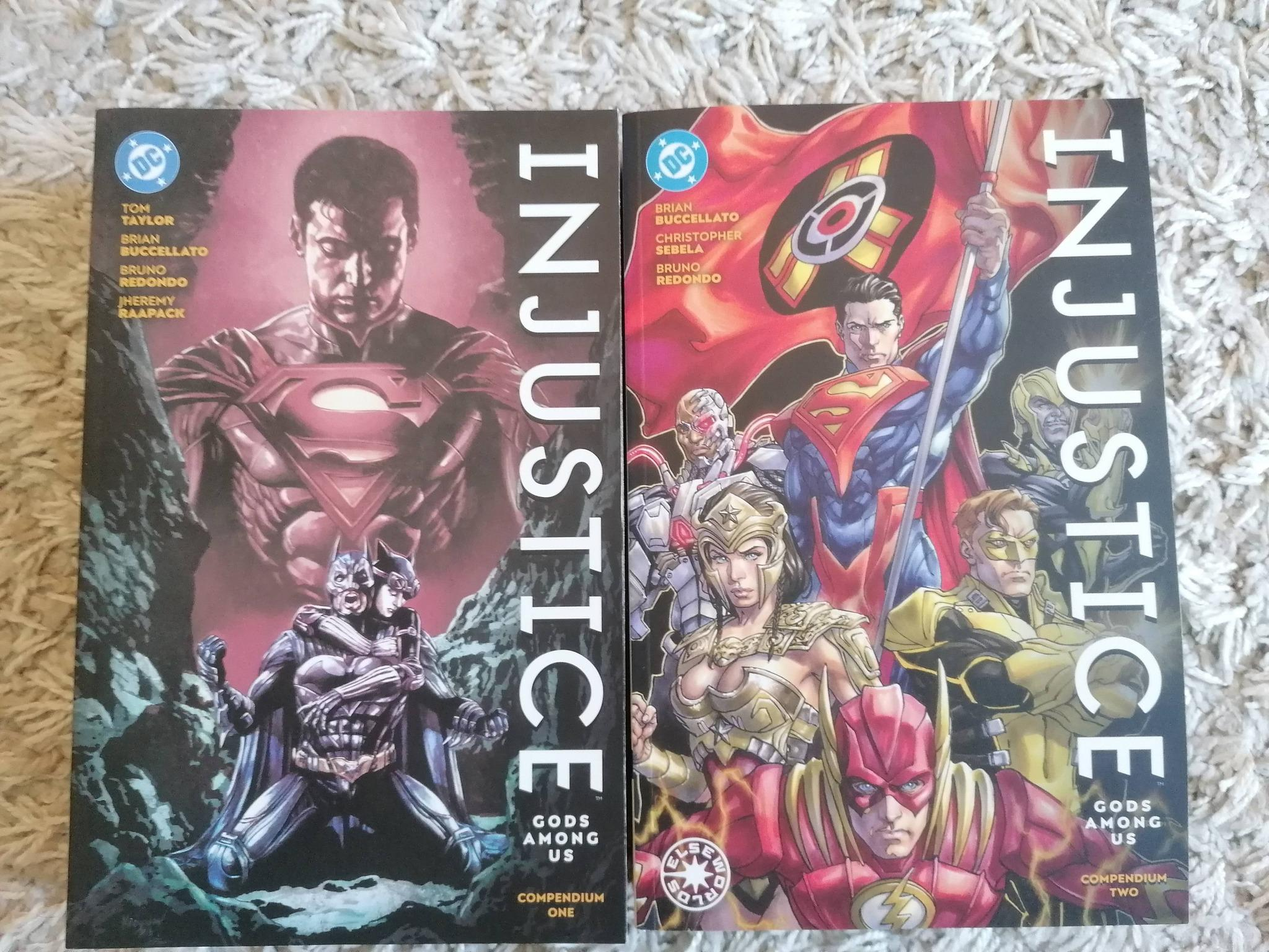comic: (617, 97, 1188, 936), (67, 110, 627, 946)
